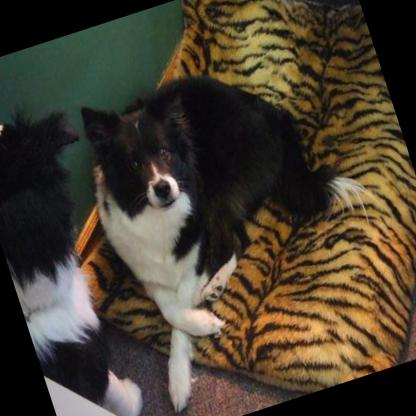Border_collie: (65, 25, 416, 416), (0, 85, 168, 416)
